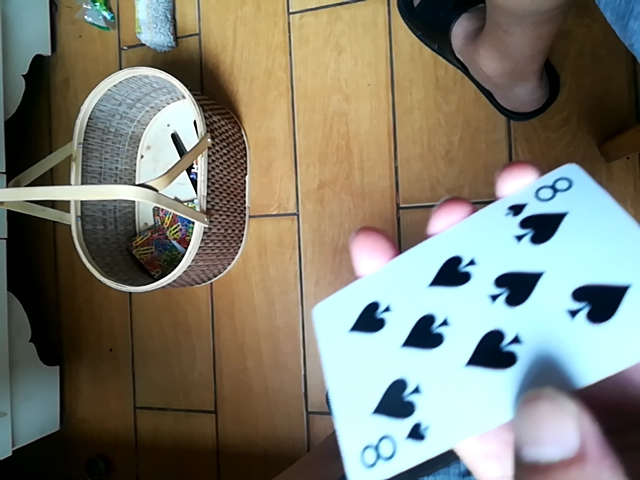ht 8: (316, 166, 638, 479)
